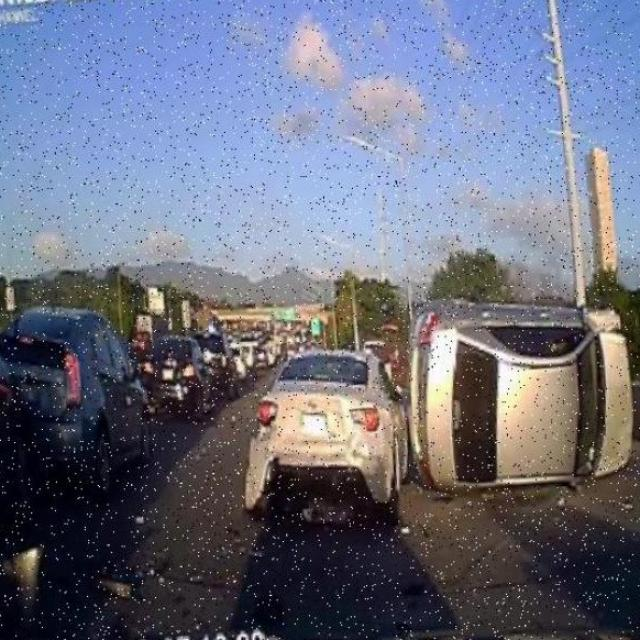accident: (254, 295, 546, 501)
